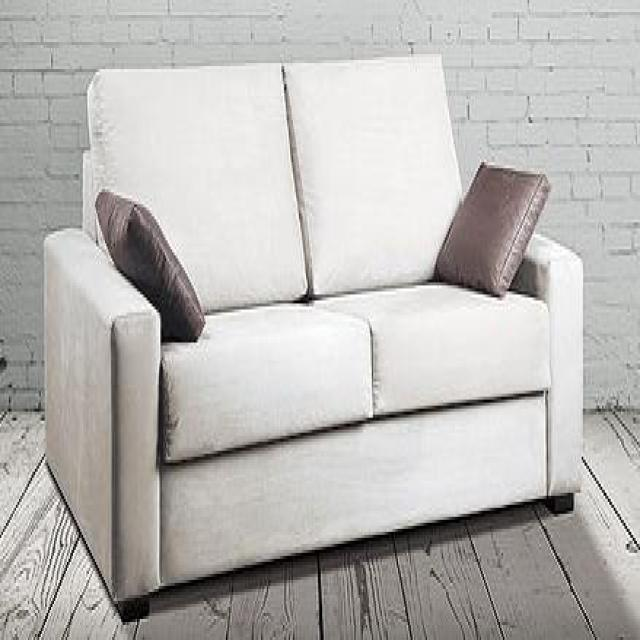sofa: (45, 52, 583, 624)
